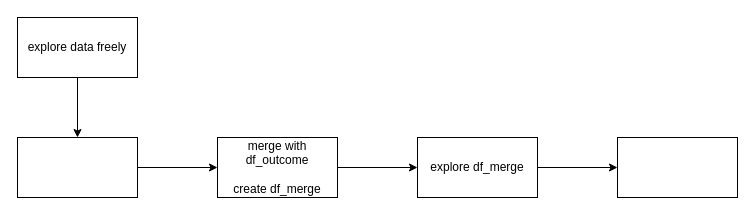
This 755x215 diagram has some shape labels left out. The shapes that lost their labels are listed below. From the top down, each one's box as (x1, y1, x2, y2) in pixels, then its label:
(16, 136, 138, 198): aggregate các df_component
(616, 136, 738, 198): feature engineering df_merge_fe
